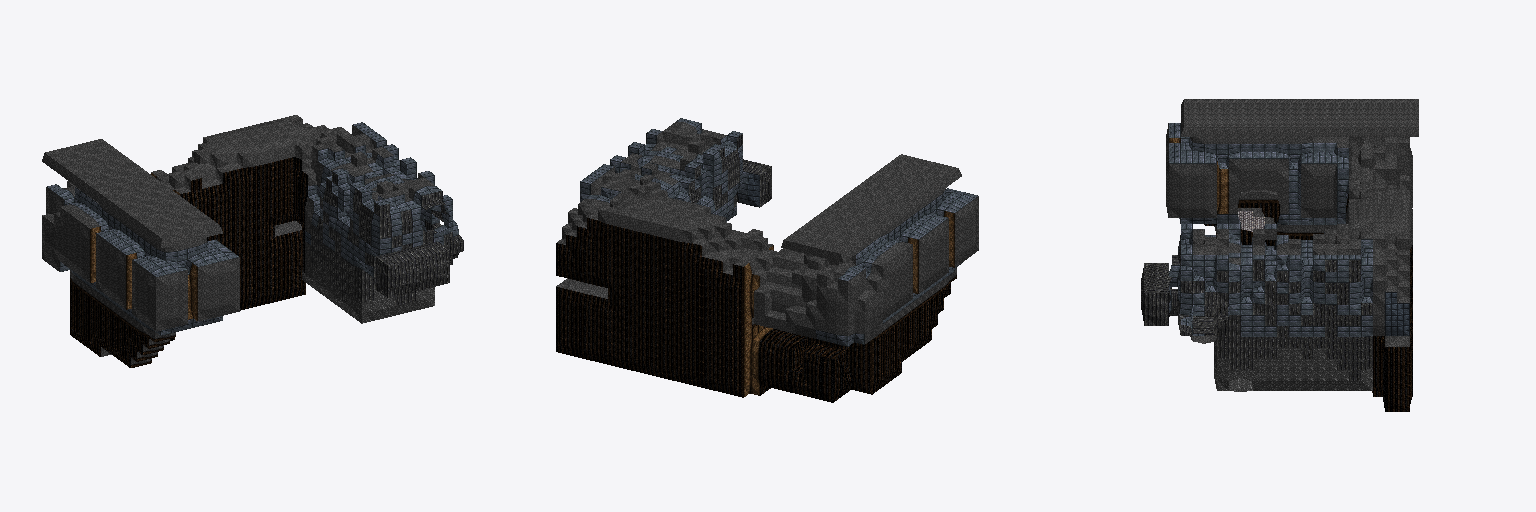
The picture shows the model from 3 angles: view 1: azimuth 30°, elevation 25°; view 2: azimuth 150°, elevation 25°; view 3: azimuth 270°, elevation 25°; orthographic projection.
Visible parts, largest first — view 1: Geometry; view 2: Geometry; view 3: Geometry.
Part boxes in pixels (x1,y1,x2,y2): Geometry: (42,115,463,367); Geometry: (556,118,978,402); Geometry: (1141,99,1418,411).
Bounding box in the file's own units: 30.27 × 16 × 23.
1 materials, 1 textured.